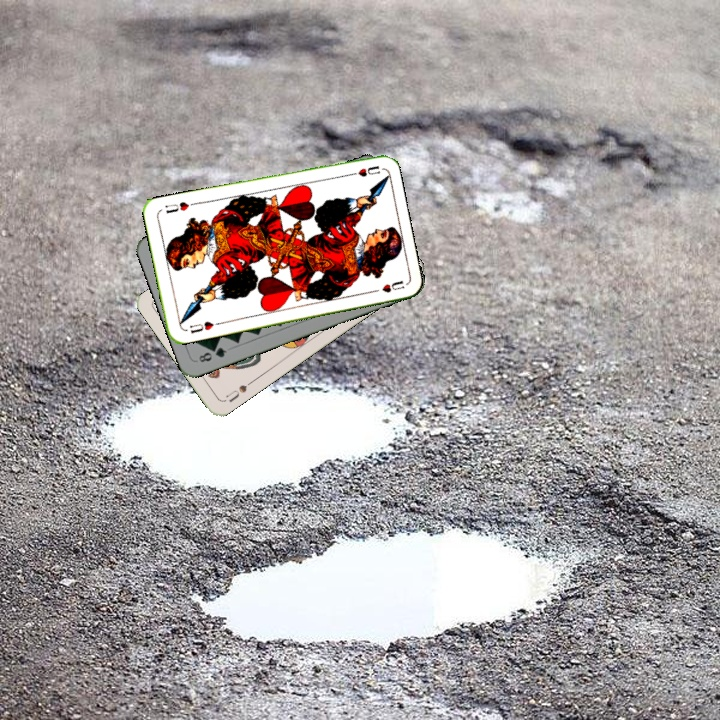G8: (194, 343, 229, 365)
HU: (343, 161, 383, 180), (186, 317, 222, 336)
SU: (221, 376, 256, 405)
